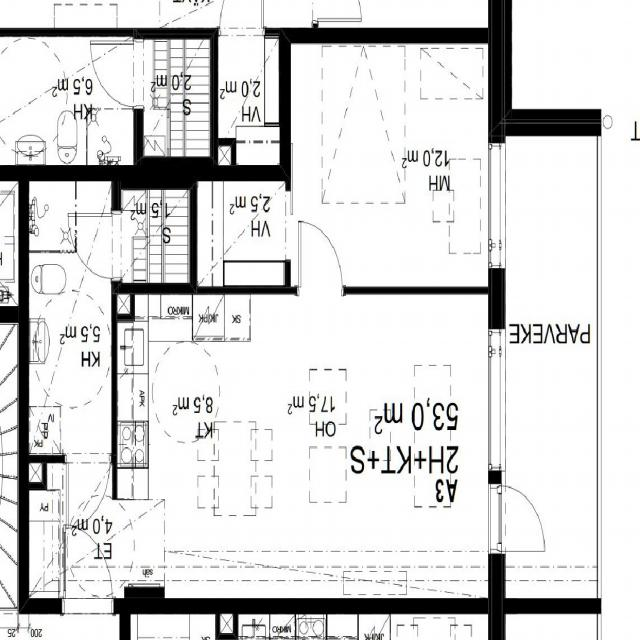door: (64, 525, 112, 614), (488, 486, 548, 551), (68, 212, 121, 278), (66, 453, 109, 528)
